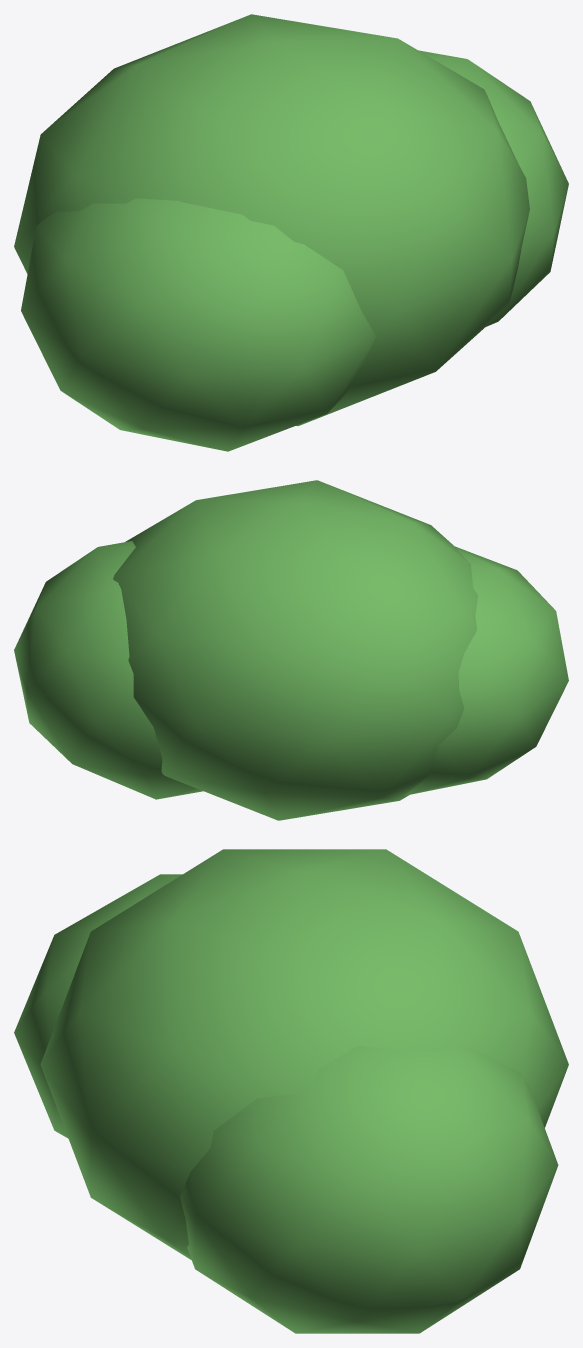
Rendered from Bush.fbx.
3 views of the same model, one above another, from view 1: azimuth 30°, elevation 25°; view 2: azimuth 150°, elevation 25°; view 3: azimuth 270°, elevation 25° (orthographic). The views are drawn at different scales.
Parts seen in each view (by area): view 1: Bush; view 2: Bush; view 3: Bush.
Boxes of the visible parts, box(x1,y1,x2,y2) form: Bush: box(14, 14, 568, 451); Bush: box(14, 480, 568, 820); Bush: box(14, 849, 568, 1333).
Size of the model in its own units: 129 by 80 by 105.
